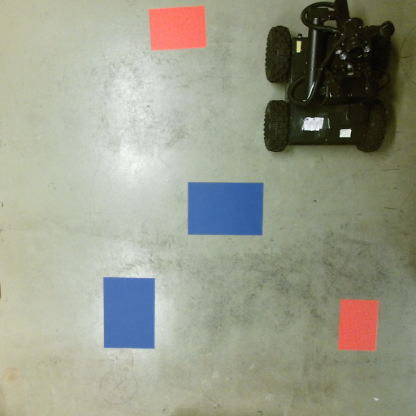Blue: (185, 181, 264, 237), (100, 276, 156, 350)
Jaguar: (264, 0, 395, 155)
Red: (146, 5, 208, 53), (336, 299, 379, 353)
